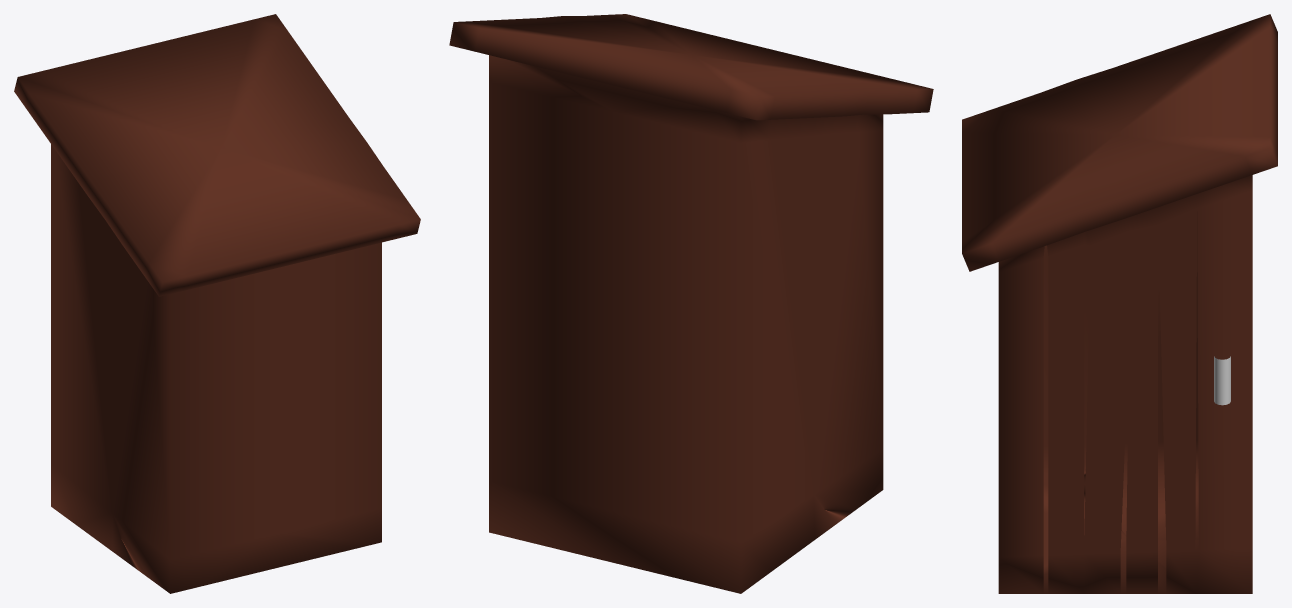
Rendered from SodmentNieUmiewModelowanieShrekVersionUncensored.fbx.
3 renders of one model, left to right at view 1: azimuth 30°, elevation 25°; view 2: azimuth 150°, elevation 25°; view 3: azimuth 270°, elevation 25°, orthographic. The views are drawn at different scales.
Visible parts, largest first — view 1: Cube; view 2: Cube; view 3: Cube, Cylinder.
Part boxes in pixels (left/top/right/bottom): Cube: left=14, top=14, right=420, bottom=593; Cube: left=449, top=14, right=933, bottom=593; Cube: left=962, top=14, right=1277, bottom=593; Cylinder: left=1214, top=356, right=1230, bottom=405.
Size of the model in its own units: 1263 by 2007 by 1257.
